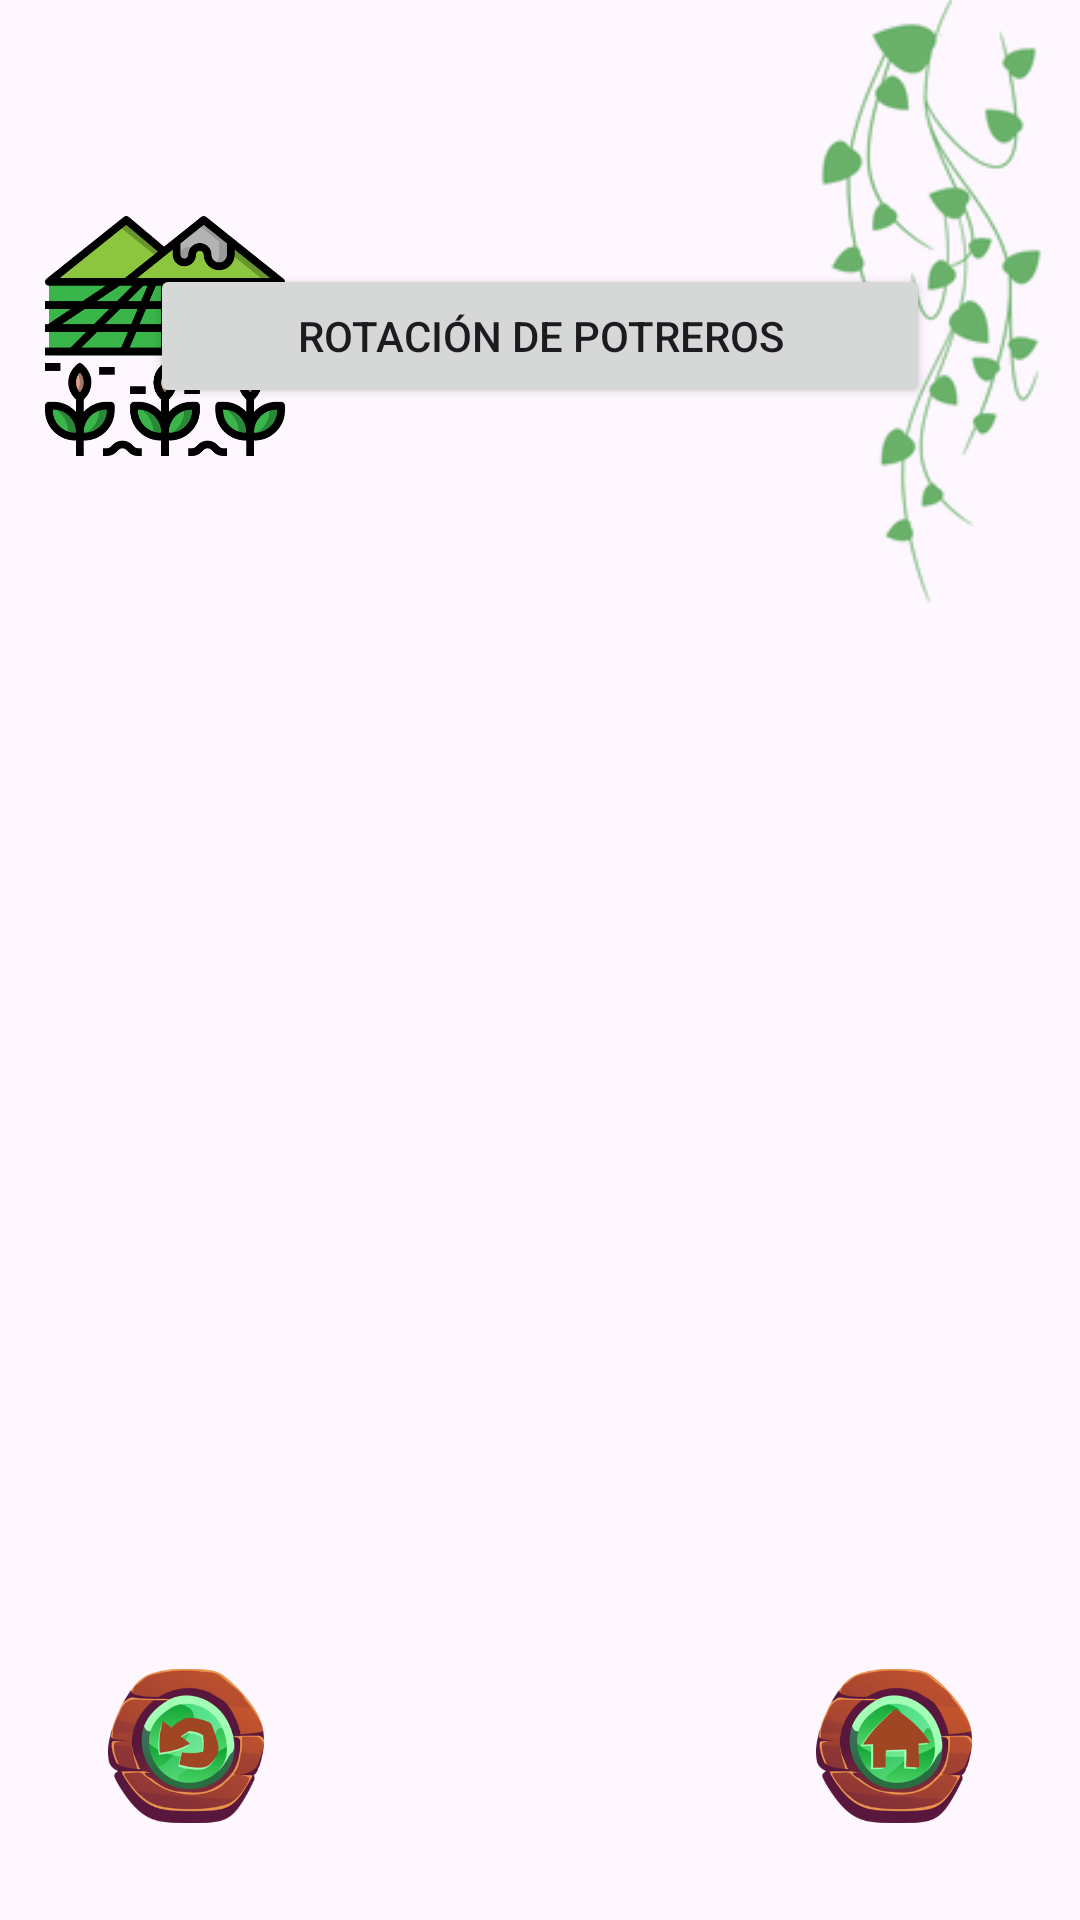

Where icons sit on this 1080px×1920px app screen, as bbox=(x1, y1, x2, y2):
casita: bbox=(816, 1669, 972, 1823)
volver: bbox=(108, 1669, 264, 1823)
